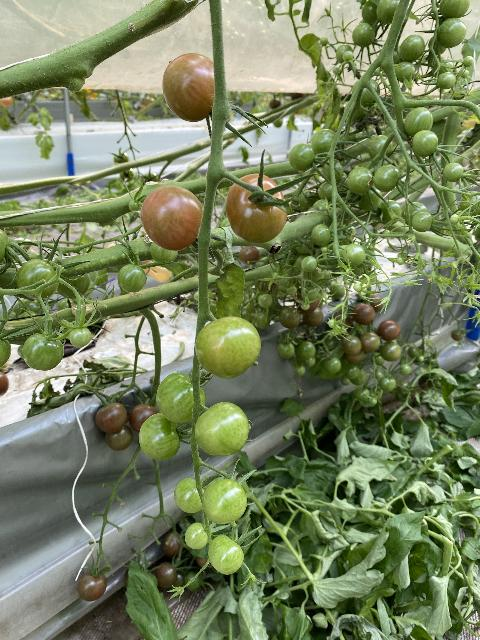l_green: (195, 316, 261, 378), (194, 400, 249, 457), (156, 371, 207, 424), (201, 478, 248, 524), (139, 412, 181, 461), (16, 258, 60, 301), (22, 332, 65, 371), (208, 534, 245, 575), (174, 478, 202, 514), (403, 107, 433, 138), (56, 274, 90, 300), (117, 264, 147, 293), (438, 16, 465, 48), (373, 164, 402, 192), (288, 143, 316, 172), (411, 129, 439, 157), (311, 128, 336, 158), (348, 167, 374, 194), (400, 34, 425, 62), (185, 522, 209, 550), (150, 242, 179, 265), (402, 201, 426, 228), (439, 0, 470, 20), (368, 135, 393, 159), (379, 200, 403, 225), (375, 1, 400, 24), (352, 23, 375, 47), (342, 244, 366, 267), (322, 158, 344, 182), (69, 326, 92, 348), (311, 223, 332, 247), (395, 61, 415, 83), (443, 162, 464, 182), (319, 182, 340, 202), (412, 212, 434, 231), (435, 72, 457, 90), (301, 256, 317, 273), (129, 200, 140, 211), (343, 50, 353, 61), (464, 56, 474, 66), (450, 213, 459, 224), (328, 320, 335, 328)
l_half_ripened: (225, 172, 288, 243), (141, 184, 203, 250), (162, 52, 214, 123), (95, 402, 127, 433), (77, 571, 108, 603), (130, 404, 160, 433), (105, 425, 134, 452)
